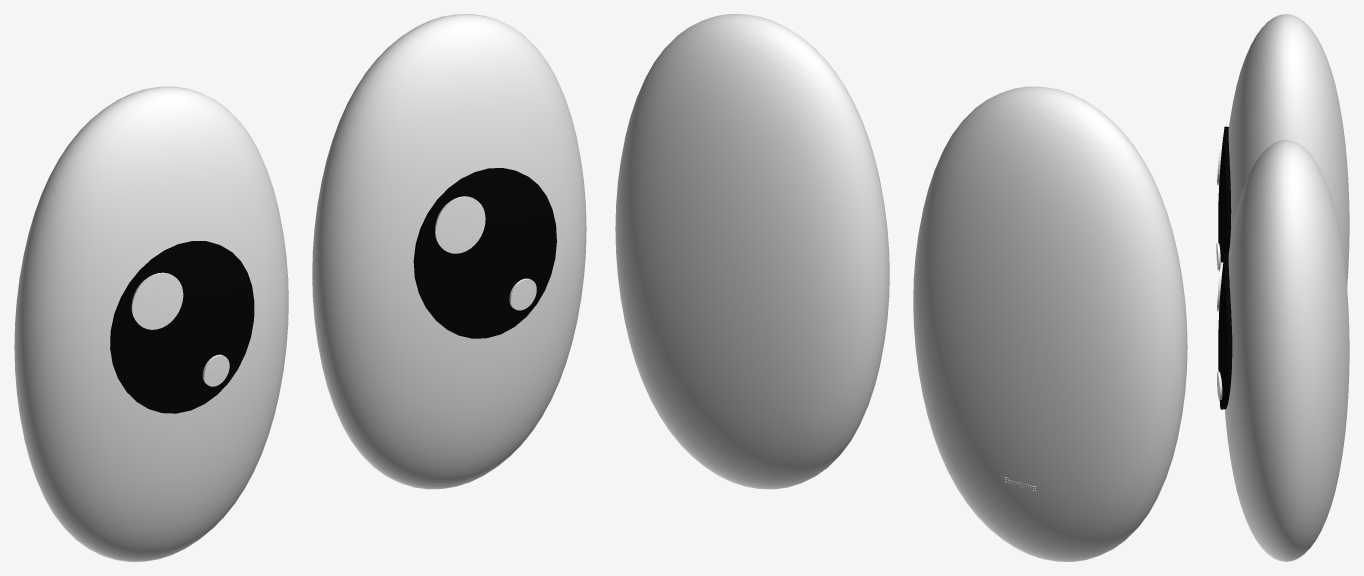
The model's file is eyes.gltf.
3 views of the same model, side by side, from view 1: azimuth 30°, elevation 25°; view 2: azimuth 150°, elevation 25°; view 3: azimuth 270°, elevation 25° (orthographic). The views are drawn at different scales.
Parts seen in each view (by area): view 1: Cube.107; view 2: Cube.107; view 3: Cube.107.
Boxes of the visible parts, box(x1,y1,x2,y2) form: Cube.107: box(14, 14, 586, 561); Cube.107: box(615, 14, 1187, 561); Cube.107: box(1216, 14, 1349, 561).
Size of the model in its own units: 2.41 by 1.92 by 0.5746.
1 material, 1 textured.
